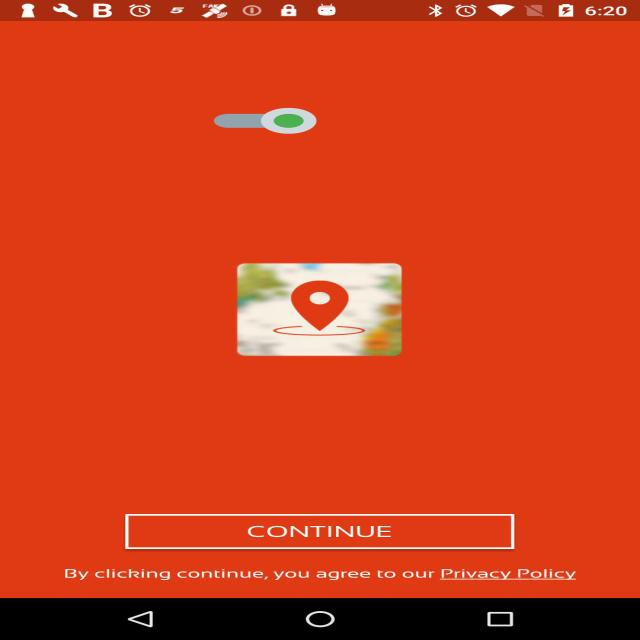social proof: (214, 97, 316, 145)
